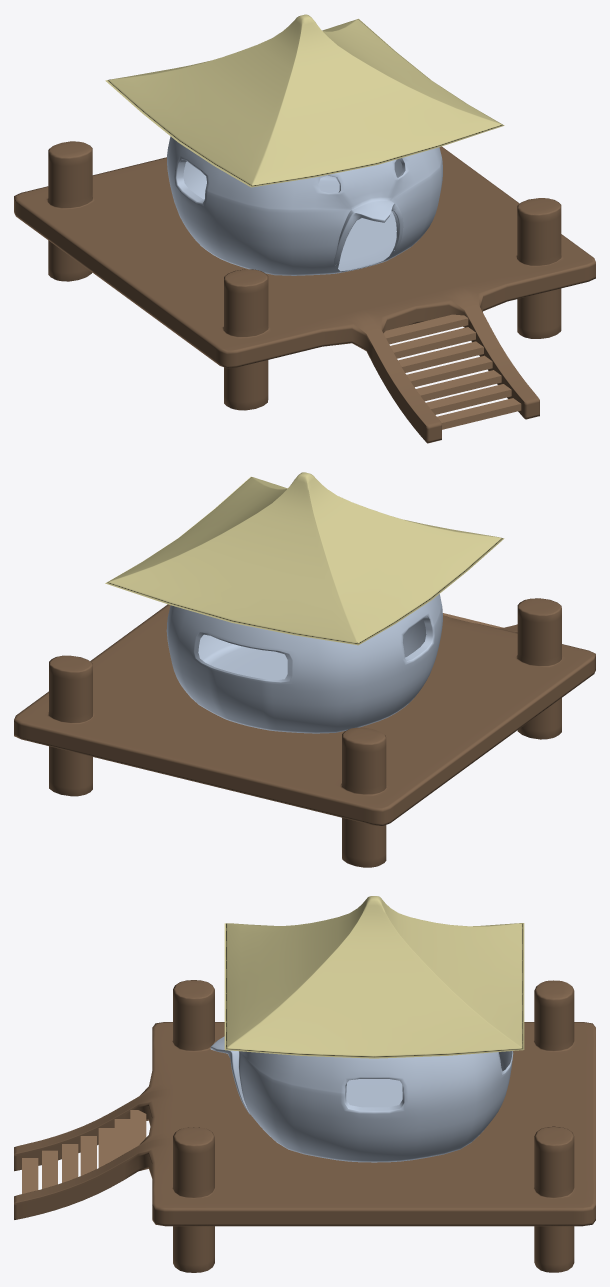
The model's file is Struc_FishingClanHome_A_v2.fbx.
3 views of the same model, one above another, from view 1: azimuth 30°, elevation 25°; view 2: azimuth 150°, elevation 25°; view 3: azimuth 270°, elevation 25° (orthographic). The views are drawn at different scales.
Parts seen in each view (by area): view 1: Stand, Roof, Body, pCube3, pCube5, pCube4, pCube6, pCube2, pCube7, pCube8; view 2: Stand, Roof, Body; view 3: Stand, Roof, Body, pCube5, pCube6, pCube3, pCube4, pCube7, pCube8, pCube2.
Part boxes in pixels (x1,y1,x2,y2): Stand: (14, 141, 595, 443); Roof: (105, 14, 504, 187); Body: (167, 136, 442, 275); pCube3: (390, 327, 475, 358); pCube5: (406, 355, 492, 387); pCube4: (398, 341, 483, 372); pCube6: (416, 370, 501, 401); pCube2: (383, 314, 468, 344); pCube7: (426, 384, 511, 414); pCube8: (437, 398, 521, 429); Stand: (14, 598, 595, 867); Roof: (105, 472, 504, 645); Body: (166, 594, 442, 733); Stand: (14, 980, 595, 1272); Roof: (224, 896, 524, 1058); Body: (210, 1036, 513, 1162); pCube5: (80, 1136, 96, 1175); pCube6: (62, 1144, 78, 1182); pCube3: (114, 1119, 130, 1158); pCube4: (98, 1128, 114, 1167); pCube7: (42, 1150, 57, 1188); pCube8: (22, 1158, 38, 1193); pCube2: (130, 1110, 146, 1150).
Size of the model in its own units: 23.04 by 16.84 by 30.23.
